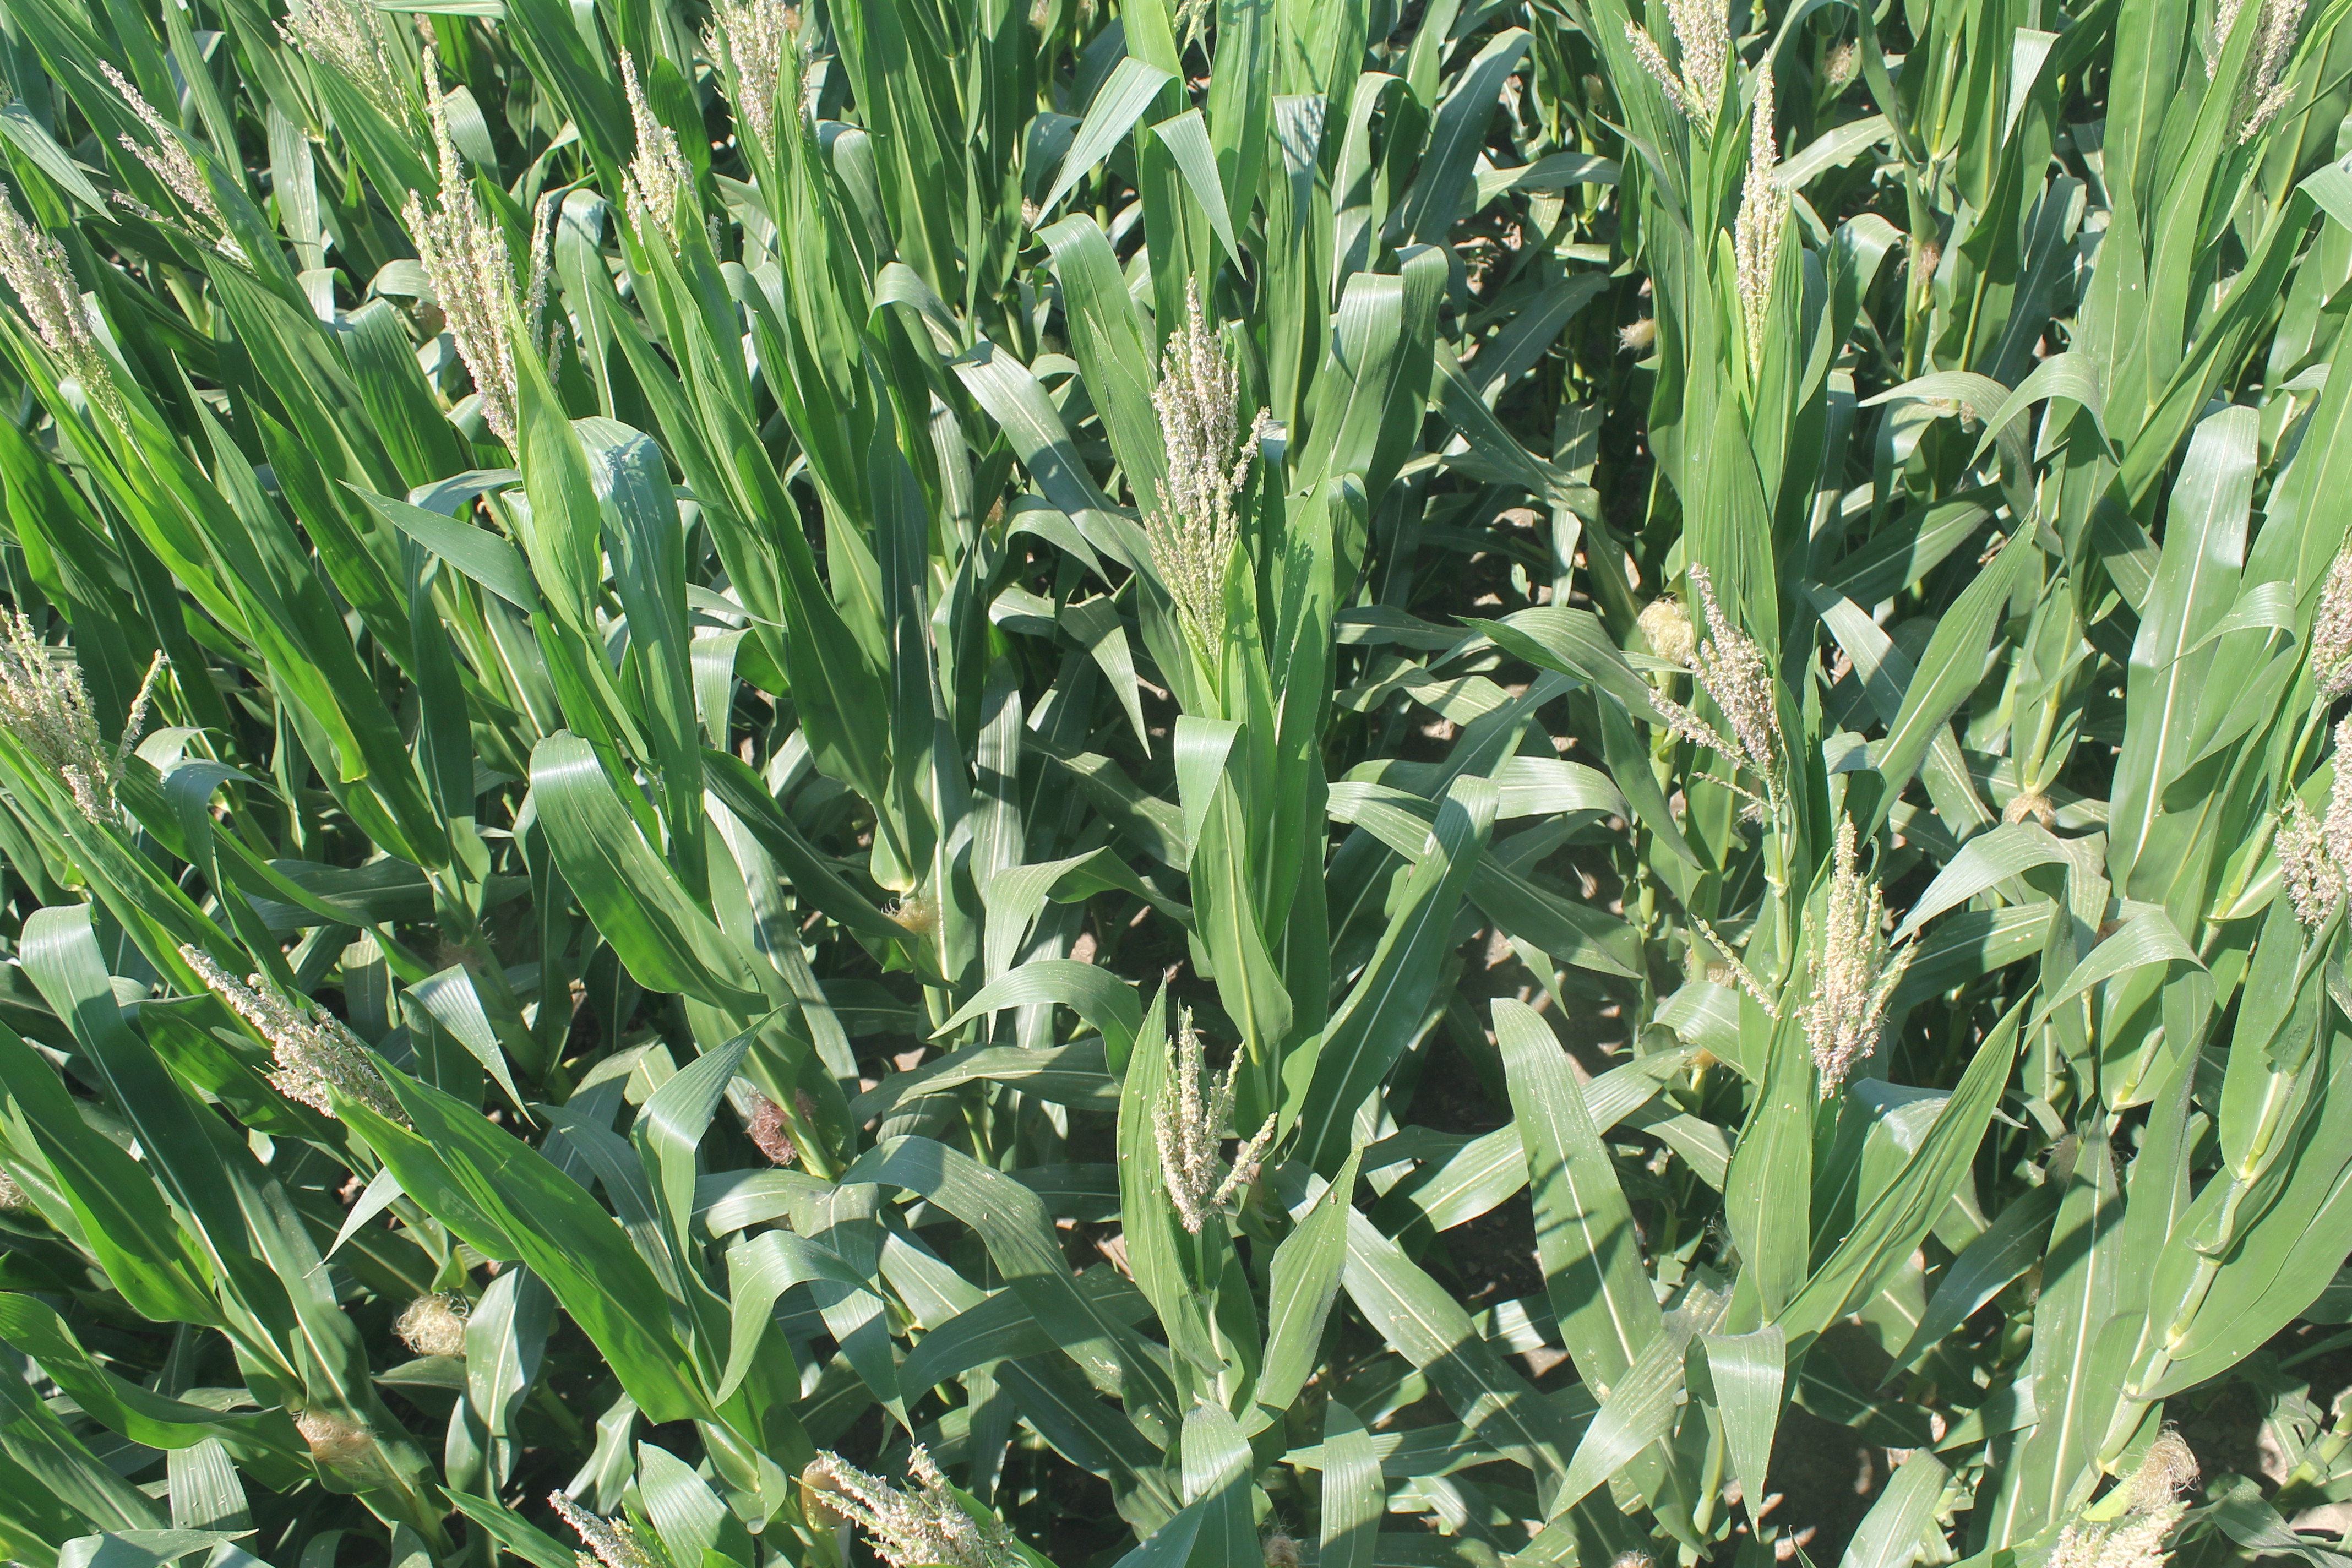Maize: (1708, 836, 1927, 1094), (1108, 280, 1267, 609), (191, 934, 434, 1146), (425, 52, 553, 443), (1141, 994, 1295, 1244), (1633, 577, 1811, 787), (798, 1428, 1060, 1568), (0, 584, 131, 808), (1736, 61, 1808, 399), (0, 212, 122, 390), (588, 61, 703, 236), (2173, 0, 2308, 149), (254, 0, 416, 121), (128, 49, 234, 231), (2277, 749, 2352, 983), (548, 1463, 672, 1568), (710, 5, 814, 121), (2268, 558, 2352, 700), (1633, 0, 1729, 121), (2039, 1503, 2217, 1568)
